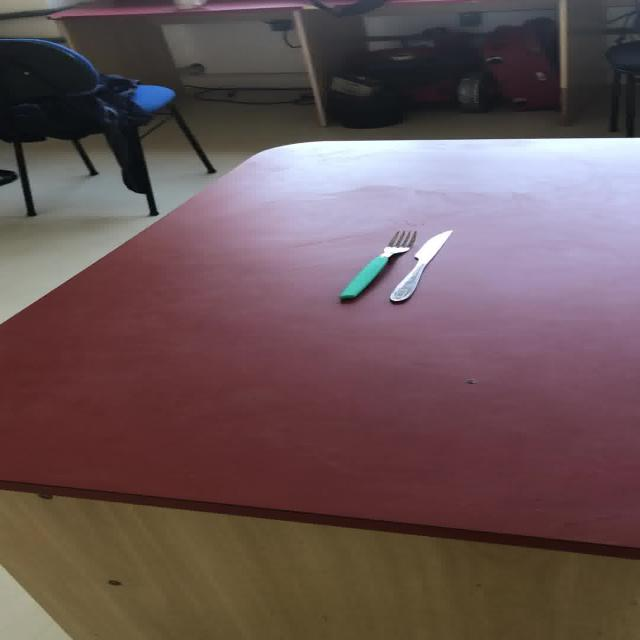fork: (338, 229, 417, 299)
knife fork: (388, 228, 452, 302)
